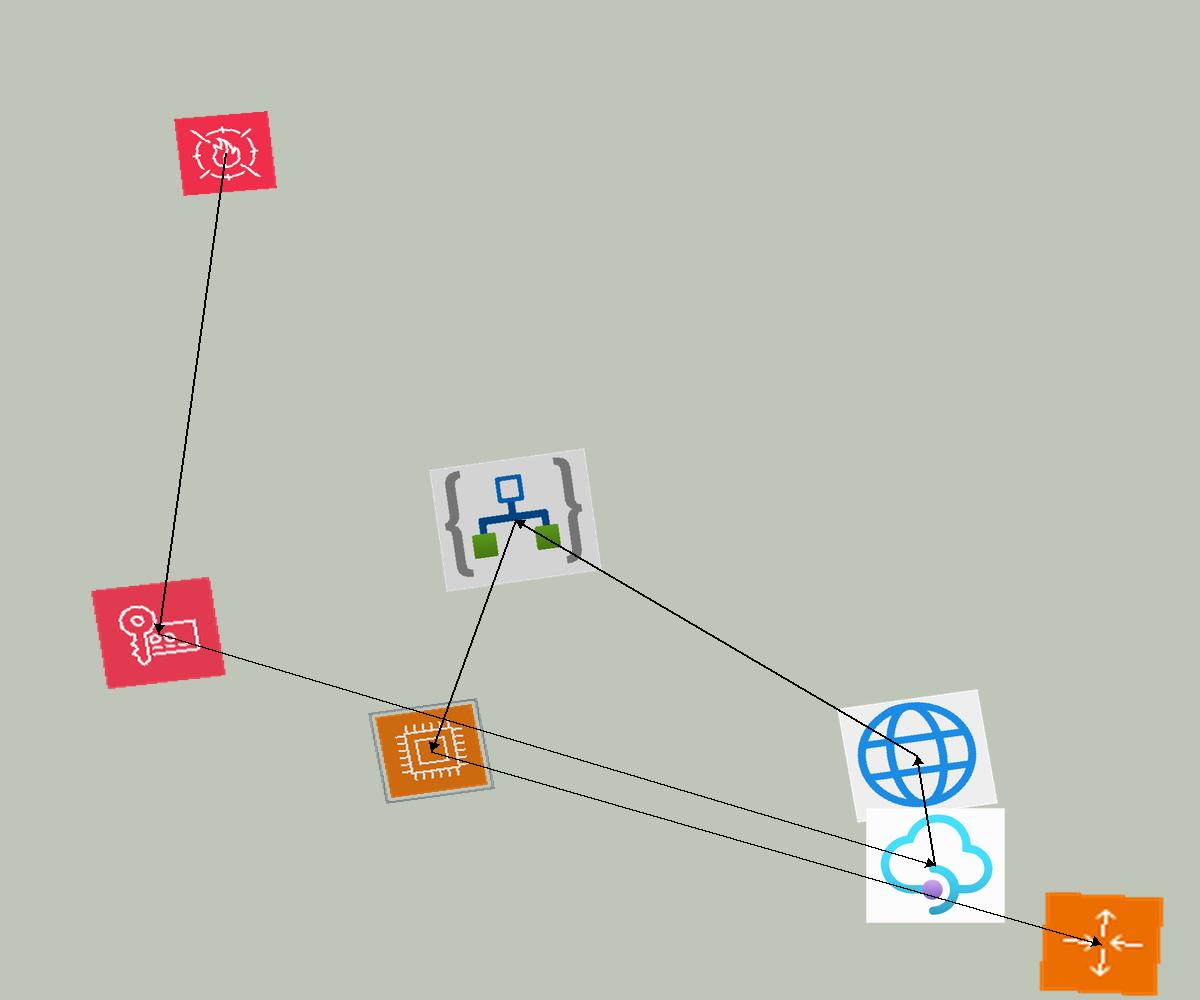AWS-Category_Compute: (368, 698, 495, 804)
AWS-Key-Management-Service: (90, 576, 227, 690)
AWS-Scaling-group: (1037, 890, 1166, 998)
AWS-WAF: (174, 111, 277, 196)
Azure_api_gateway: (866, 808, 1005, 923)
Azure_http: (837, 689, 998, 823)
Azure_integration-204-Logic-Apps: (429, 448, 602, 592)
